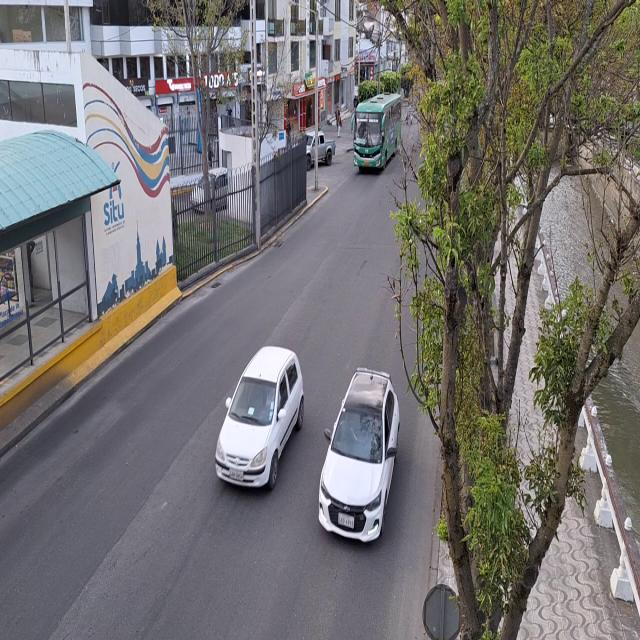BUS: (352, 98, 396, 174)
SED: (329, 368, 395, 580), (217, 344, 301, 493)
